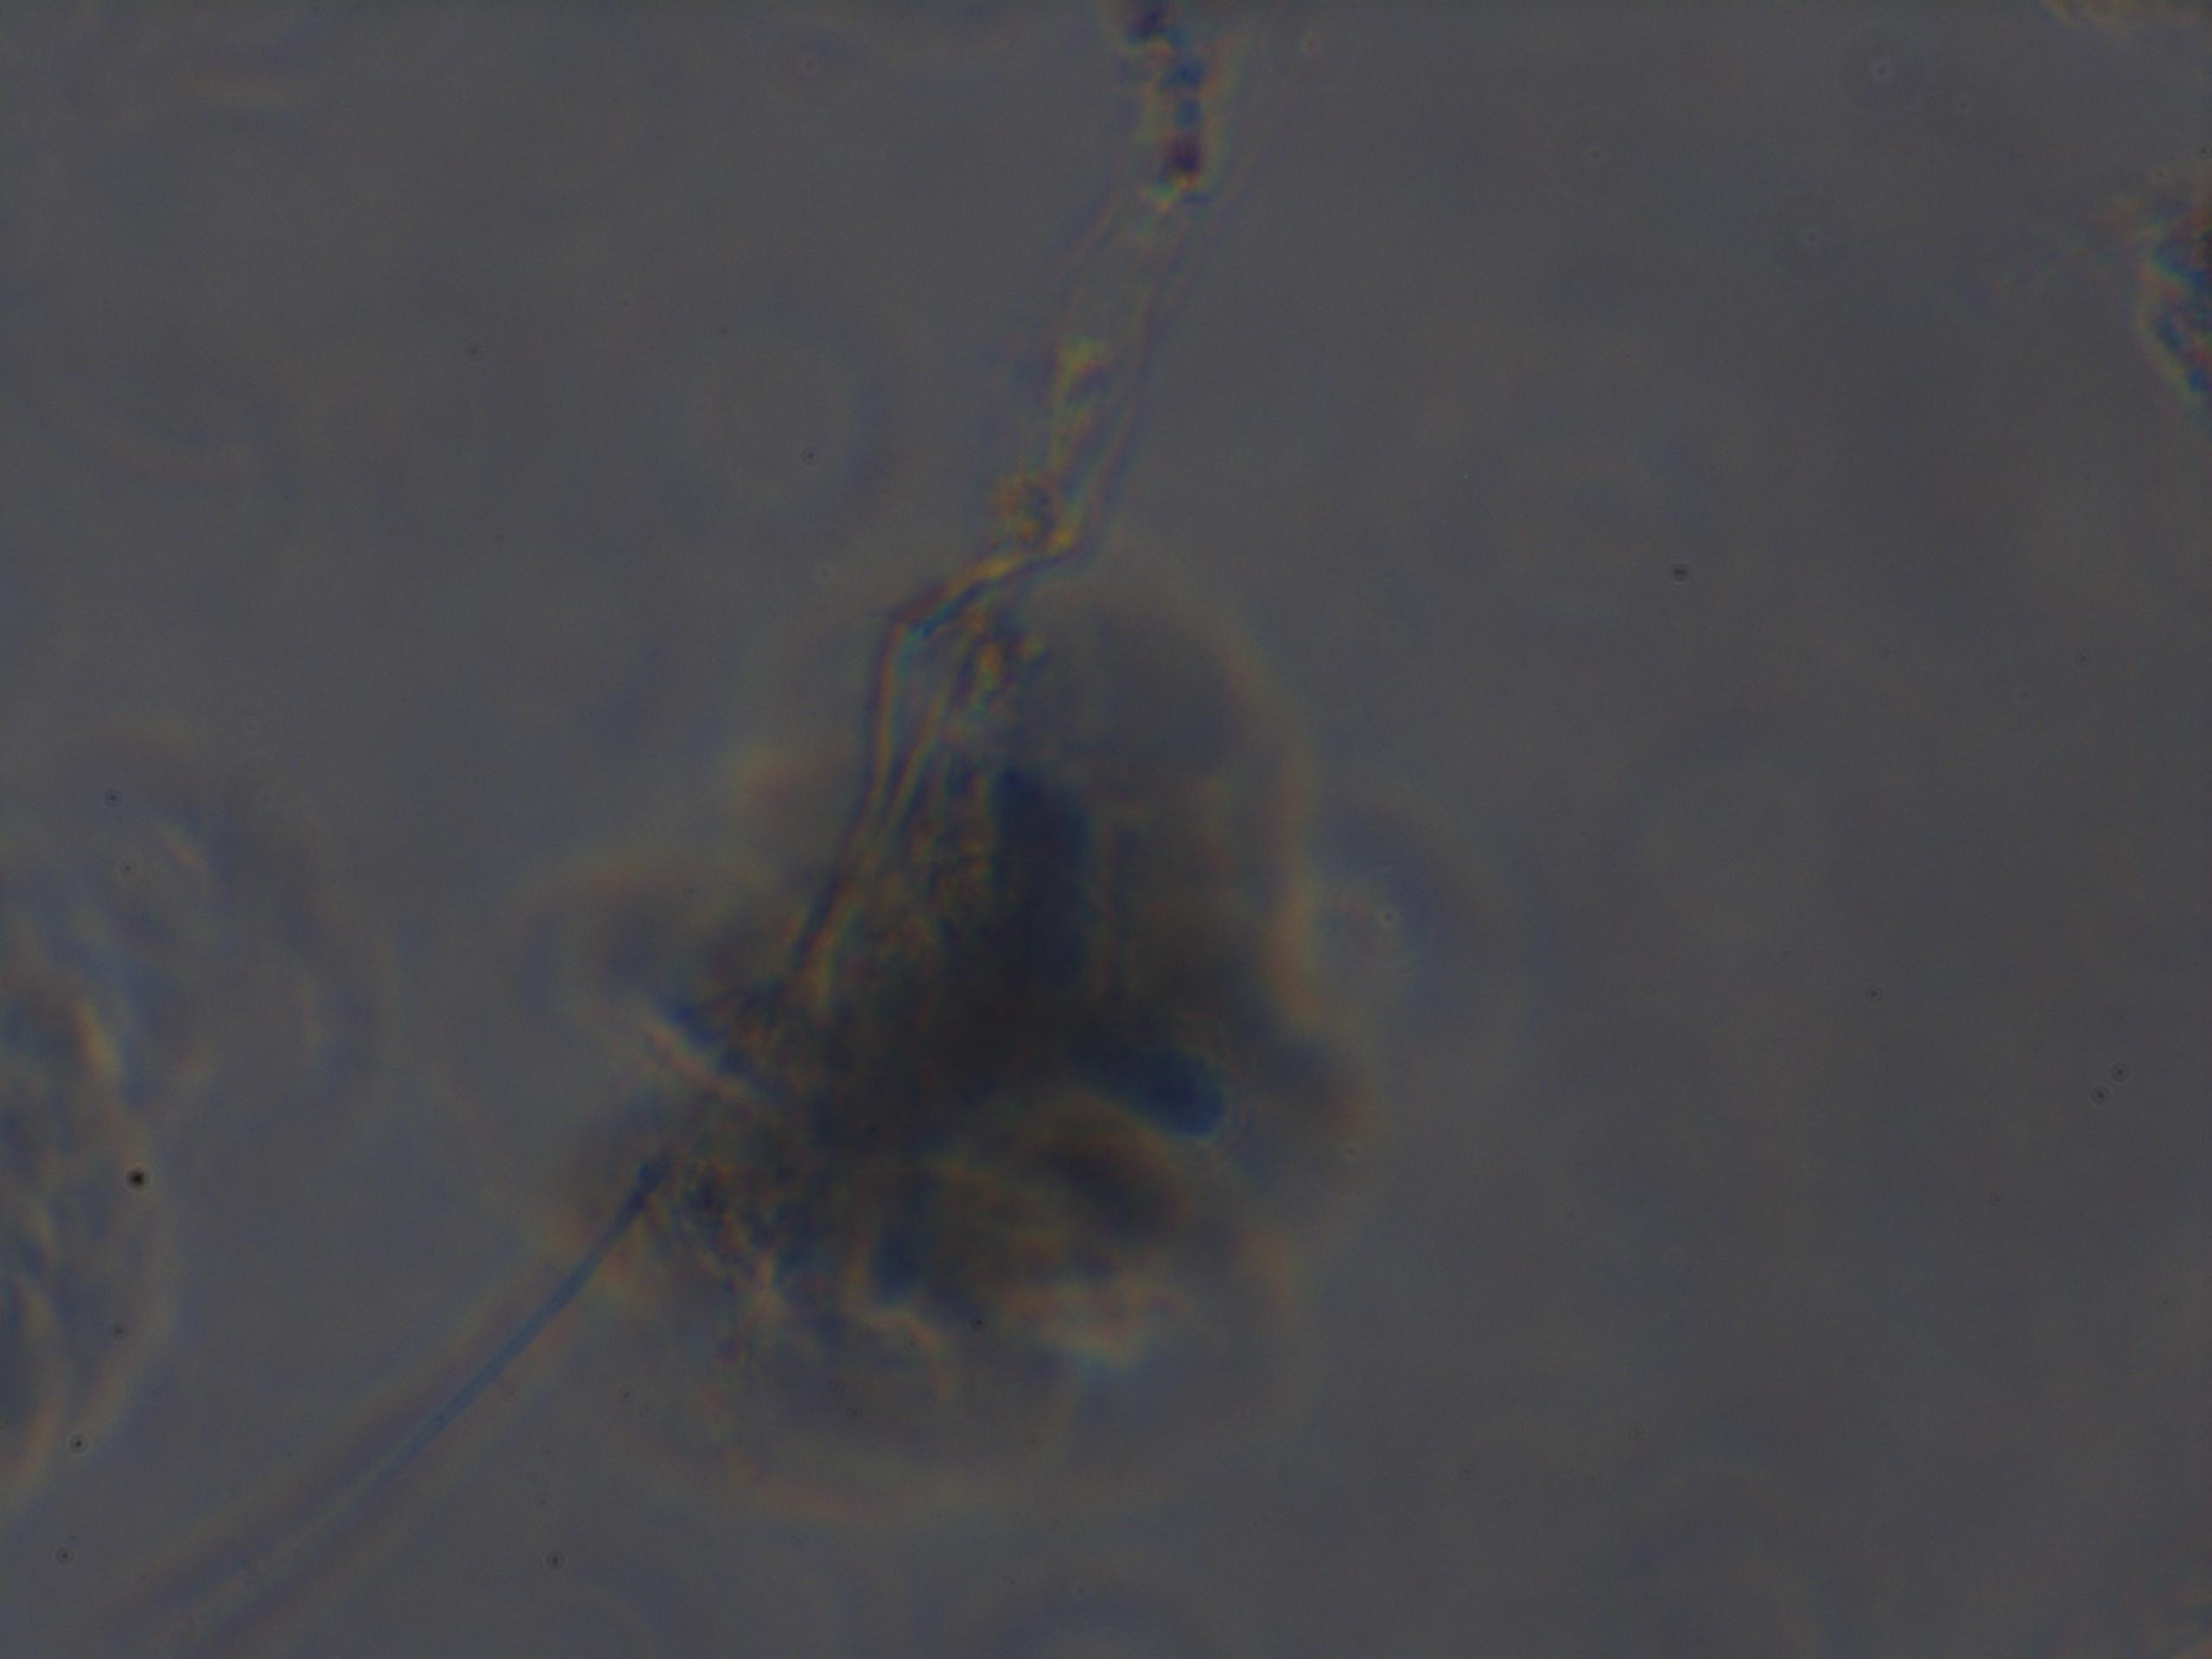filament: (183, 0, 1343, 1657)
